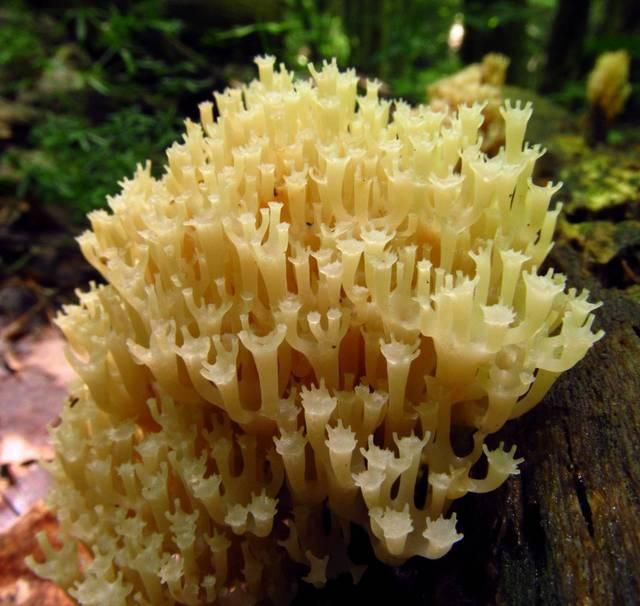edible_mushroom: (27, 51, 606, 605)
